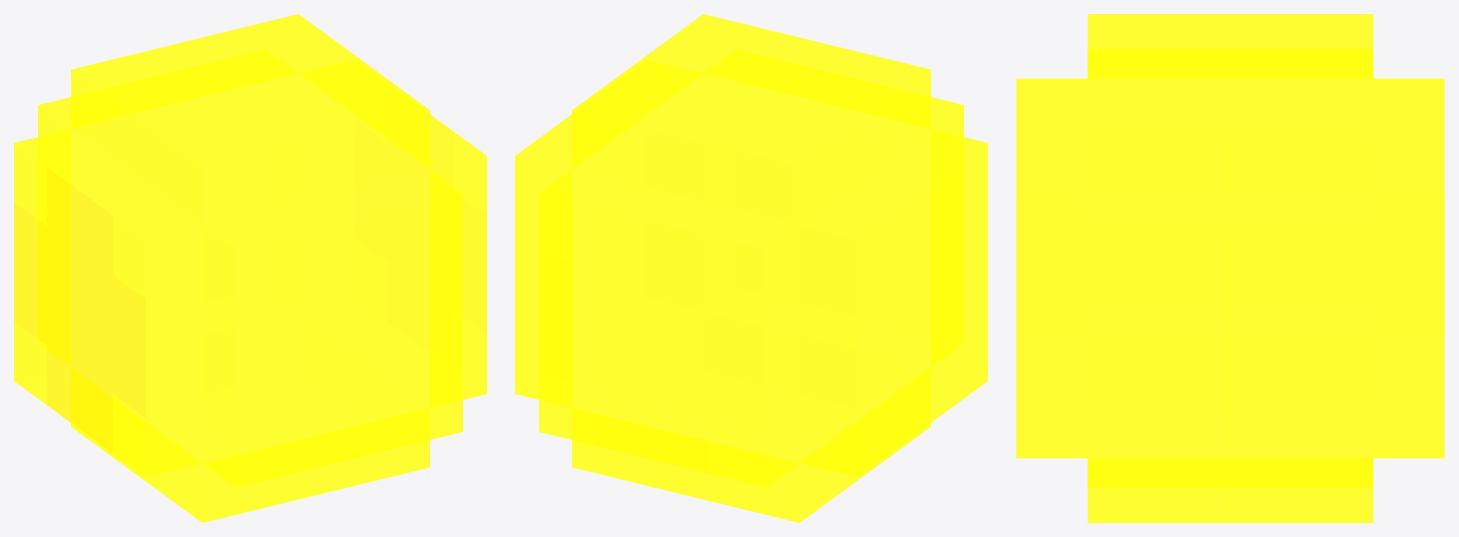
Rendered from ball.fbx.
The picture shows the model from 3 angles, left to right: view 1: azimuth 30°, elevation 25°; view 2: azimuth 150°, elevation 25°; view 3: azimuth 270°, elevation 25°; orthographic projection. The views are drawn at different scales.
Parts seen in each view (by area): view 1: Cube; view 2: Cube; view 3: Cube.
Boxes of the visible parts, x1=… form: Cube: x1=14, y1=14, x2=486, y2=522; Cube: x1=515, y1=14, x2=987, y2=522; Cube: x1=1016, y1=14, x2=1444, y2=522.
Size of the model in its own units: 300 by 300 by 300.
